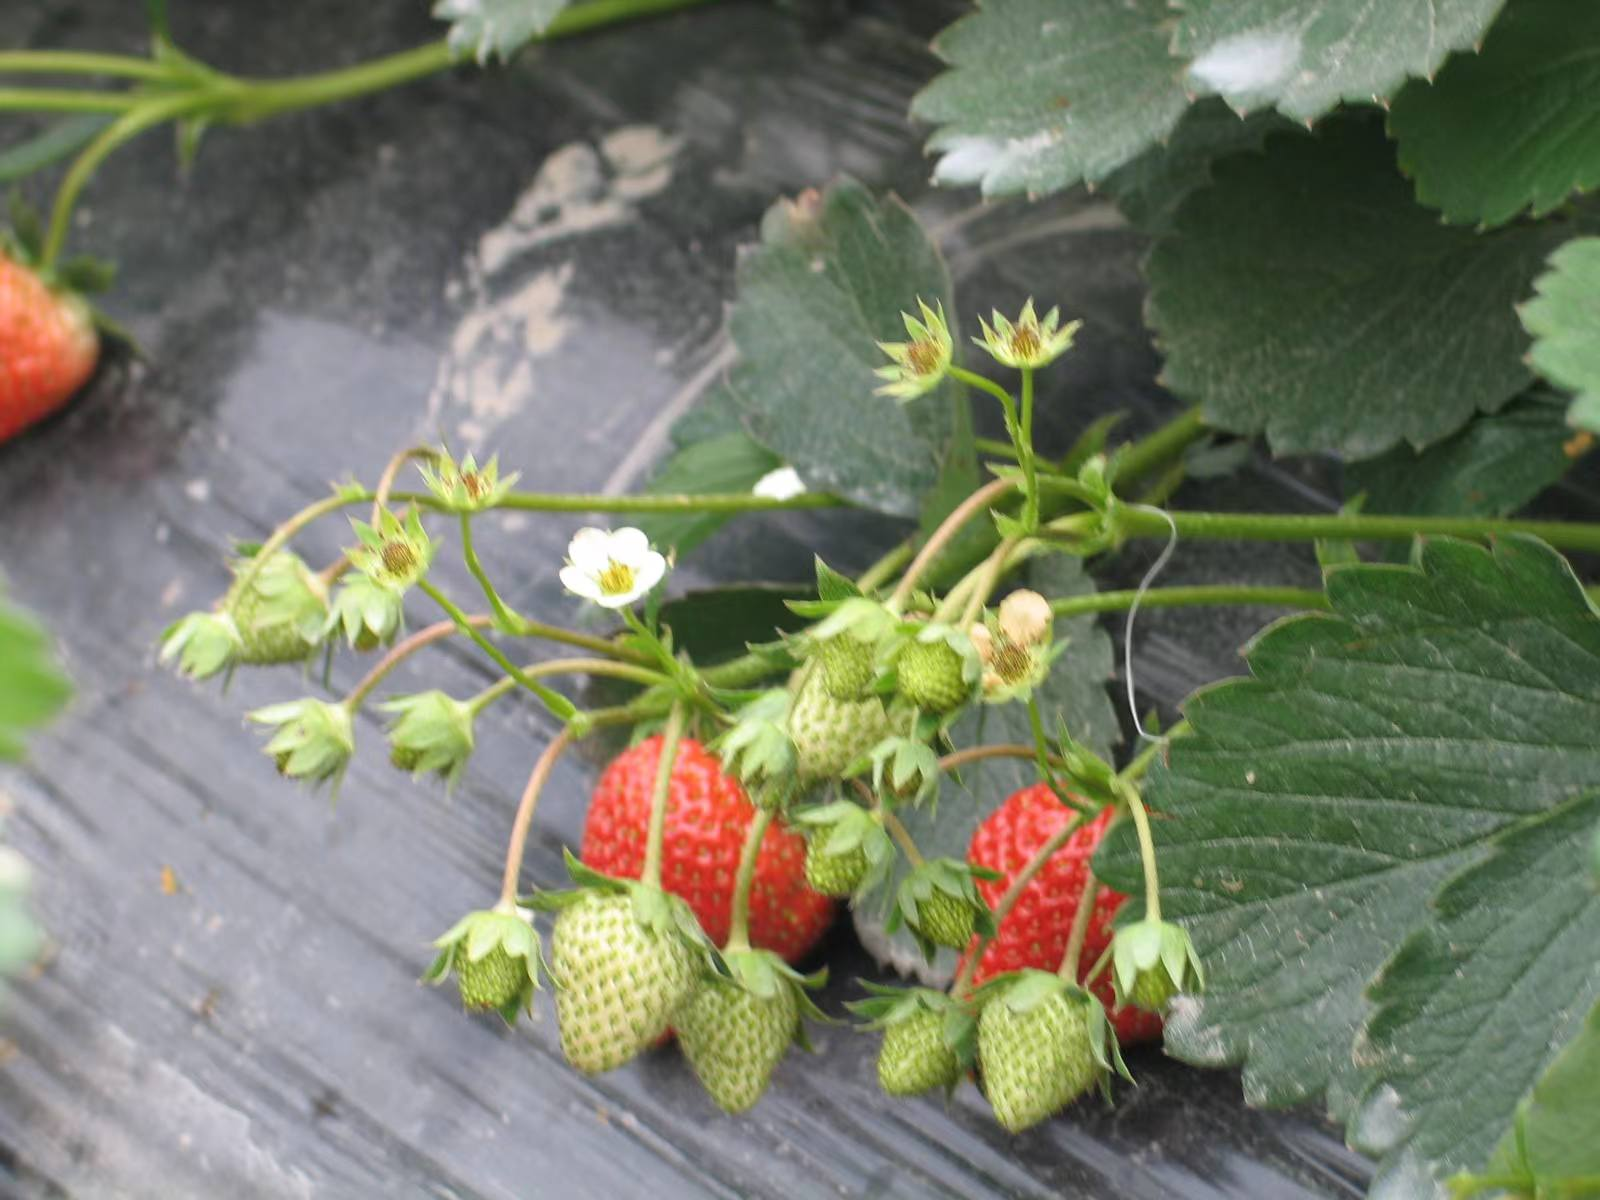StrawberryCone: (564, 707, 842, 991), (955, 771, 1177, 1042)
StrawberryIrremovable: (548, 876, 695, 1082), (981, 979, 1110, 1145), (677, 962, 810, 1114), (784, 644, 910, 792), (217, 555, 335, 666), (794, 798, 898, 916), (1102, 918, 1222, 1016), (871, 979, 968, 1095), (900, 855, 988, 964), (446, 910, 527, 1013), (892, 628, 994, 706), (818, 608, 900, 702)
StrawberryOther: (3, 211, 120, 470)
StrawberryRemovable: (574, 713, 834, 988), (959, 776, 1175, 1040), (5, 205, 111, 464)
